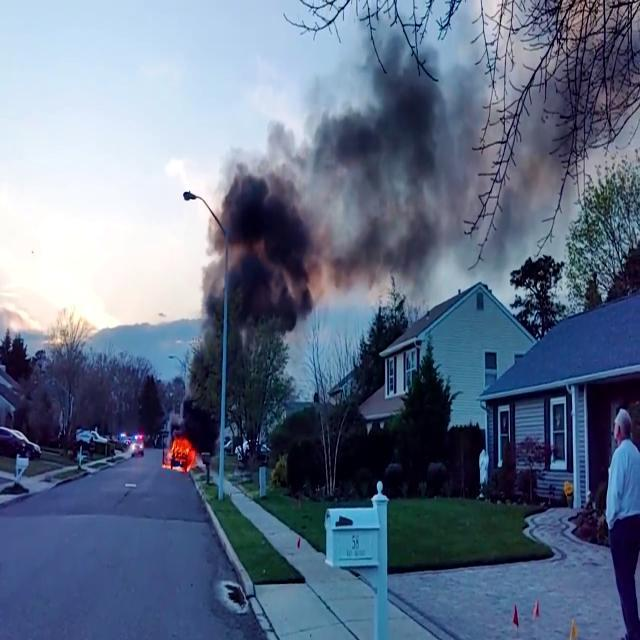Fire: (170, 438, 204, 478)
Smoke: (198, 0, 640, 321)
